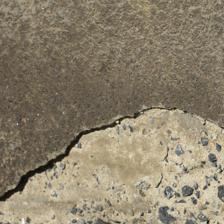Crack: (3, 107, 222, 203)
